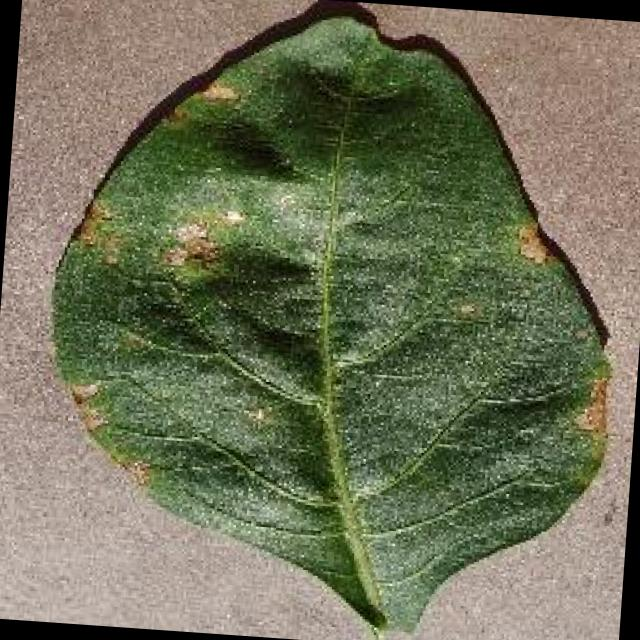Chilli_Bacterial_Spot: (21, 0, 640, 640), (58, 375, 160, 491), (156, 213, 224, 276), (570, 370, 612, 438), (69, 193, 115, 253), (510, 216, 560, 269), (194, 74, 242, 110), (216, 202, 250, 230)
